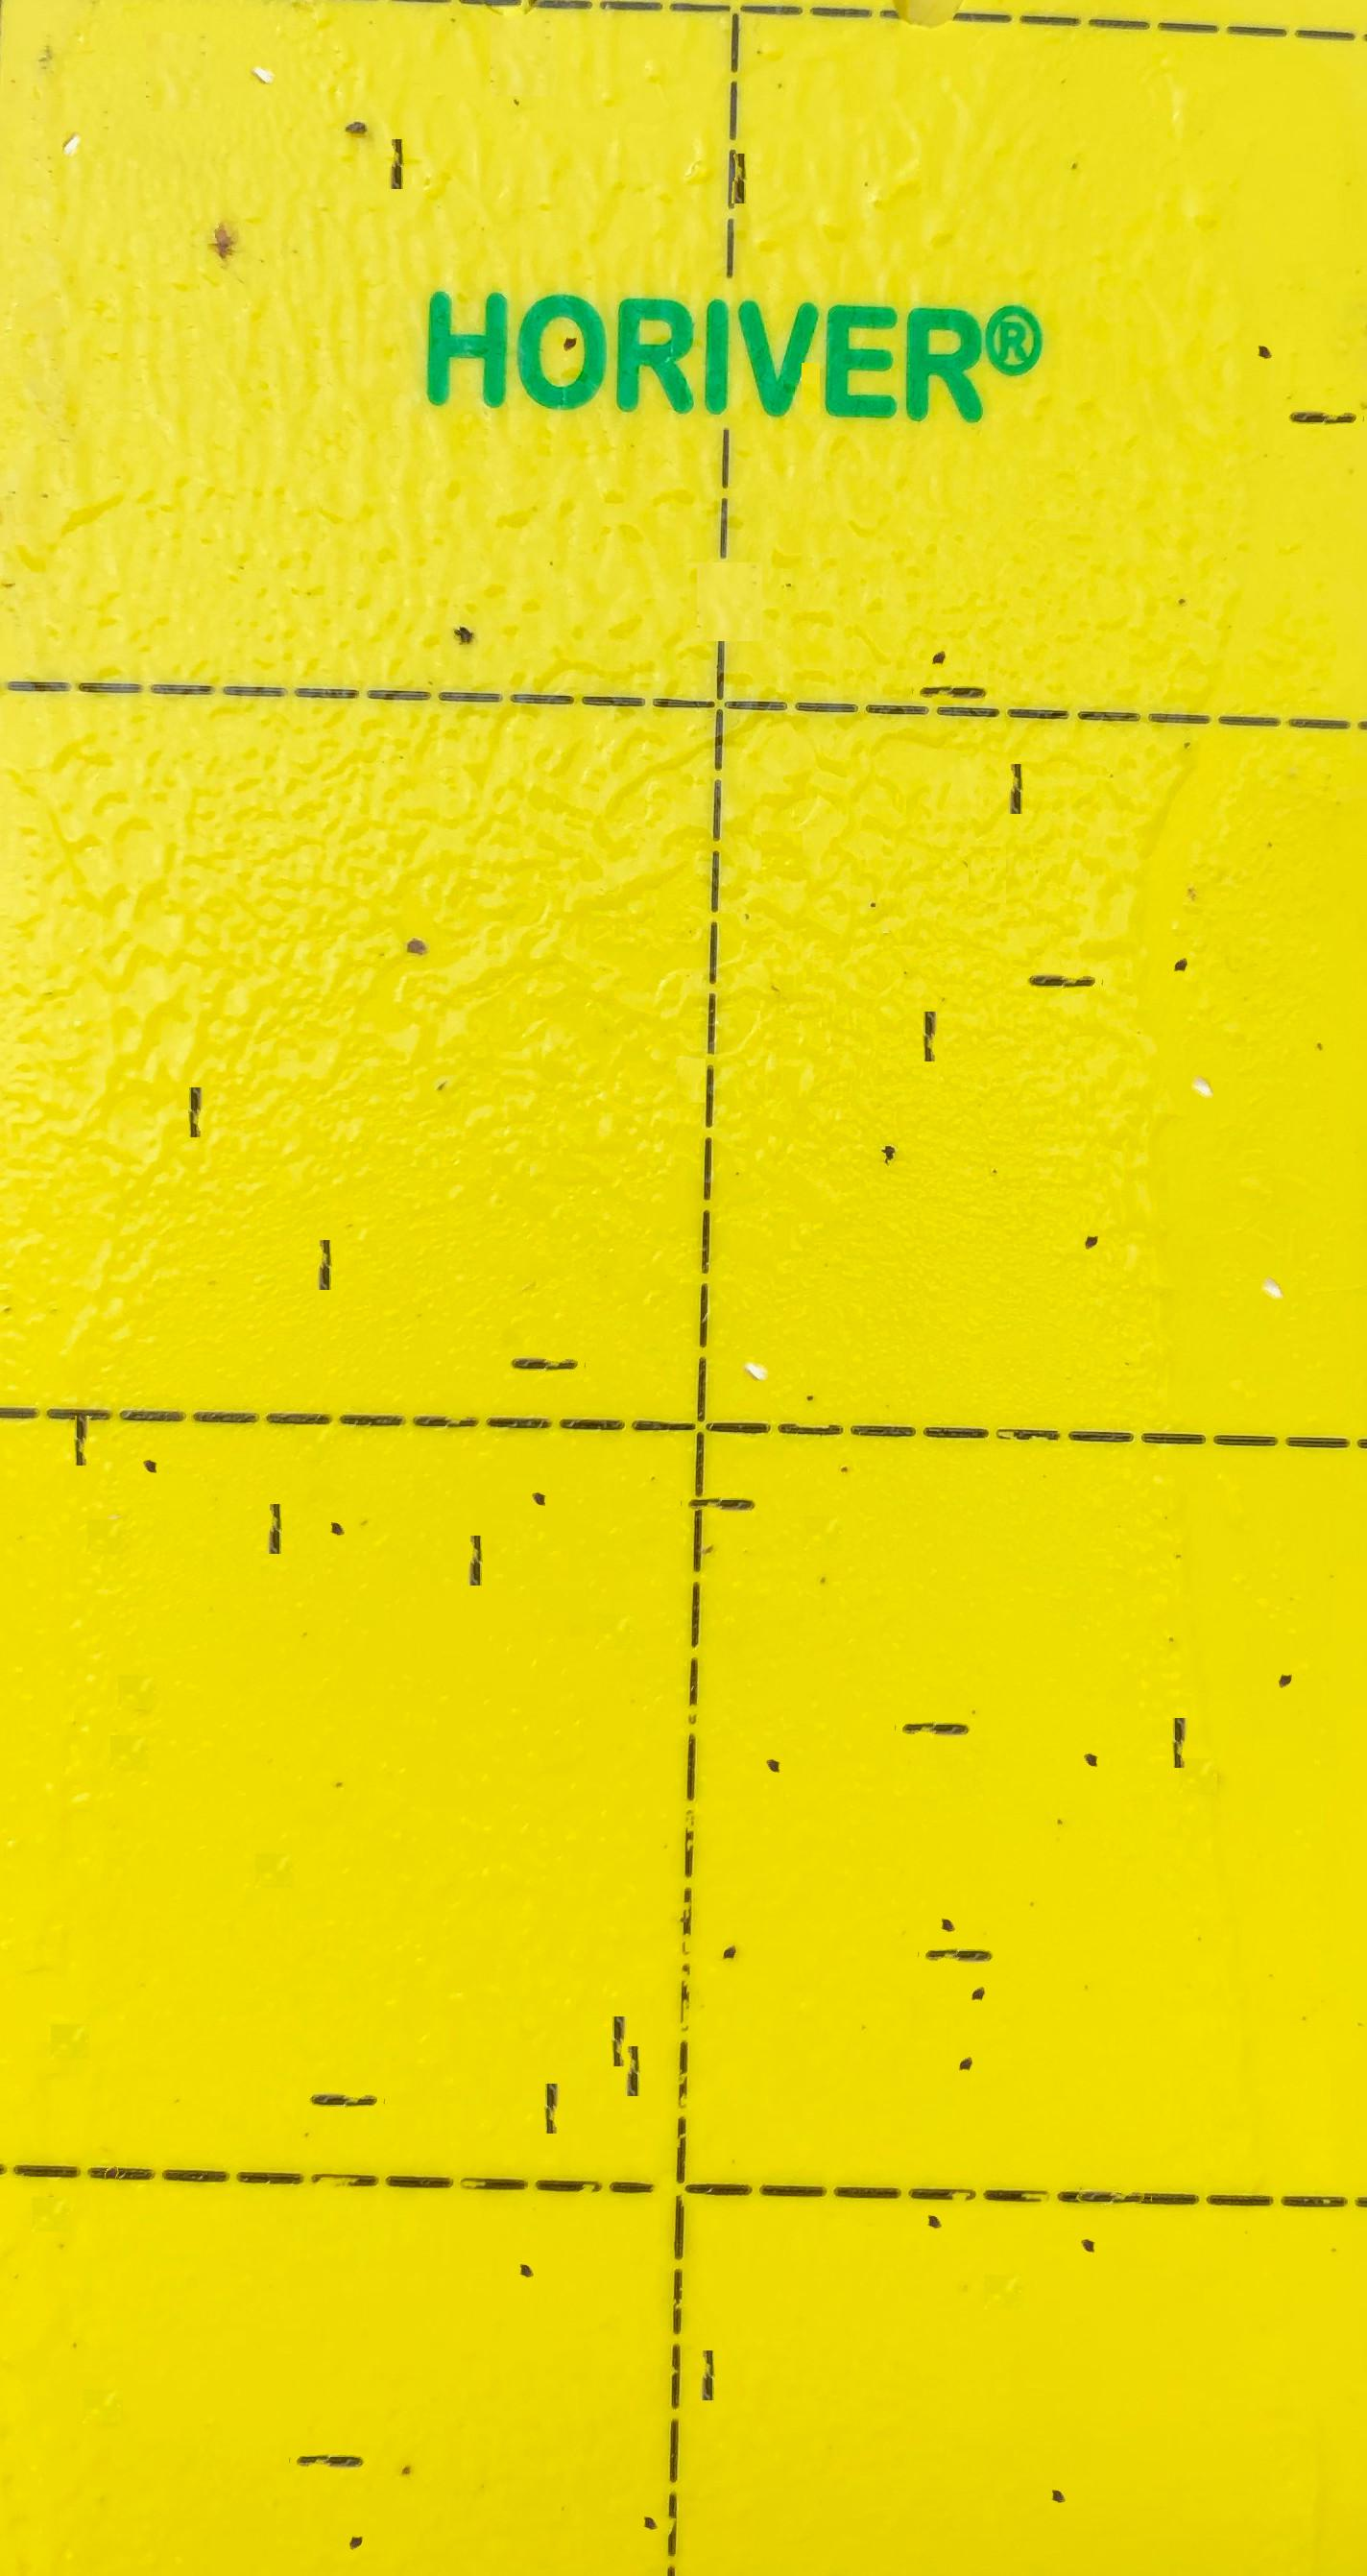white_fly: (53, 80, 95, 126), (1181, 1021, 1224, 1065), (245, 5, 286, 51), (738, 1302, 779, 1348), (1251, 1223, 1294, 1266)
